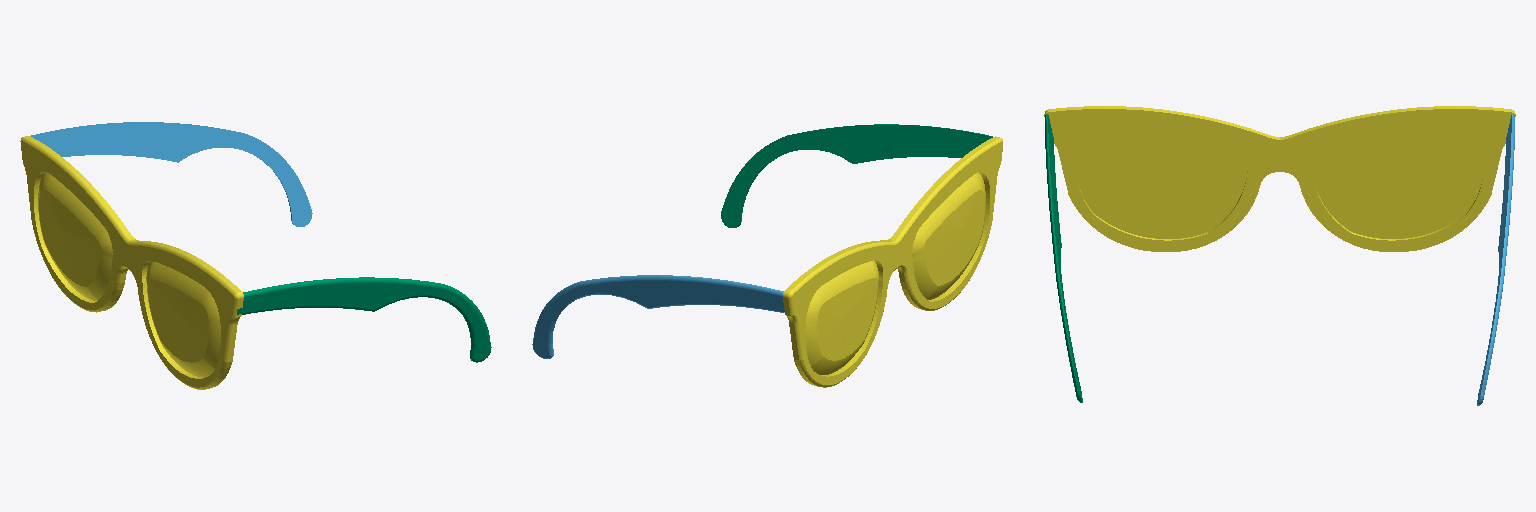
The robot description file, URDF, robot "partnet_ccf930a5753a7e11f7a4d2929e8727e6":
<?xml version="1.0" ?>
<robot name="partnet_ccf930a5753a7e11f7a4d2929e8727e6">
	<link name="base"/>
	<link name="link_0">
		<visual name="leg-1">
			<origin xyz="0.6433655228052175 -0.17150742041938383 -0.11928940806476107"/>
			<geometry>
				<mesh filename="textured_objs/original-5.obj" scale="0.3 0.3 0.3"/>
			</geometry>
		</visual>
		<collision>
			<origin xyz="0.6433655228052175 -0.17150742041938383 -0.11928940806476107"/>
			<geometry>
				<mesh filename="textured_objs/original-5.obj" scale="0.3 0.3 0.3"/>
			</geometry>
		</collision>
	</link>
	<joint name="joint_0" type="revolute">
		<origin xyz="-0.6433655228052175 0.17150742041938383 0.11928940806476107"/>
		<axis xyz="0 -1 0"/>
		<child link="link_0"/>
		<parent link="link_2"/>
		<limit lower="-0.0" upper="1.1184069846779672"/>
	</joint>
	<link name="link_1">
		<visual name="leg-2">
			<origin xyz="-0.6323725572479443 -0.17508172326538185 -0.12999168228739114"/>
			<geometry>
				<mesh filename="textured_objs/original-4.obj" scale="0.3 0.3 0.3"/>
			</geometry>
		</visual>
		<collision>
			<origin xyz="-0.6323725572479443 -0.17508172326538185 -0.12999168228739114"/>
			<geometry>
				<mesh filename="textured_objs/original-4.obj" scale="0.3 0.3 0.3"/>
			</geometry>
		</collision>
	</link>
	<joint name="joint_1" type="revolute">
		<origin xyz="0.6323725572479443 0.17508172326538185 0.12999168228739114"/>
		<axis xyz="0 1 0"/>
		<child link="link_1"/>
		<parent link="link_2"/>
		<limit lower="0.0" upper="1.2000883936713012"/>
	</joint>
	<link name="link_2">
		<visual name="base_body-3">
			<origin xyz="0 0 0"/>
			<geometry>
				<mesh filename="textured_objs/original-3.obj" scale="0.3 0.3 0.3"/>
			</geometry>
		</visual>
		<visual name="base_body-3">
			<origin xyz="0 0 0"/>
			<geometry>
				<mesh filename="textured_objs/original-2.obj" scale="0.3 0.3 0.3"/>
			</geometry>
		</visual>
		<visual name="base_body-3">
			<origin xyz="0 0 0"/>
			<geometry>
				<mesh filename="textured_objs/original-1.obj" scale="0.3 0.3 0.3"/>
			</geometry>
		</visual>
		<collision>
			<origin xyz="0 0 0"/>
			<geometry>
				<mesh filename="textured_objs/original-3.obj" scale="0.3 0.3 0.3"/>
			</geometry>
		</collision>
		<collision>
			<origin xyz="0 0 0"/>
			<geometry>
				<mesh filename="textured_objs/original-2.obj" scale="0.3 0.3 0.3"/>
			</geometry>
		</collision>
		<collision>
			<origin xyz="0 0 0"/>
			<geometry>
				<mesh filename="textured_objs/original-1.obj" scale="0.3 0.3 0.3"/>
			</geometry>
		</collision>
	</link>
	<joint name="joint_2" type="fixed">
		<origin rpy="1.570796326794897 0 -1.570796326794897" xyz="0 0 0"/>
		<child link="link_2"/>
		<parent link="base"/>
	</joint>
</robot>

--- Render facts (derived) ---
Views: 3 orthographic renders of the robot side by side, from view 1: azimuth 30°, elevation 25°; view 2: azimuth 150°, elevation 25°; view 3: azimuth 270°, elevation 25°.
Robot: partnet_ccf930a5753a7e11f7a4d2929e8727e6 — 4 links, 3 joints (2 revolute, 1 fixed); root link base; default pose: all joints at 0.
Links seen in each view (by area): view 1: link_2, link_0, link_1; view 2: link_2, link_1, link_0; view 3: link_2, link_0, link_1.
Boxes of the visible links, <box> form: link_2: <box>20,136,243,389</box>; link_0: <box>31,122,312,226</box>; link_1: <box>237,277,491,362</box>; link_2: <box>783,136,1002,387</box>; link_1: <box>721,124,992,227</box>; link_0: <box>532,275,784,358</box>; link_2: <box>1044,106,1515,251</box>; link_0: <box>1477,114,1514,405</box>; link_1: <box>1045,114,1082,402</box>.
Bounding box of the posed robot: 0.2889 × 0.3863 × 0.1438 m (x, y, z).
5 mesh visuals loaded from 5 distinct referenced files (5 OBJ).